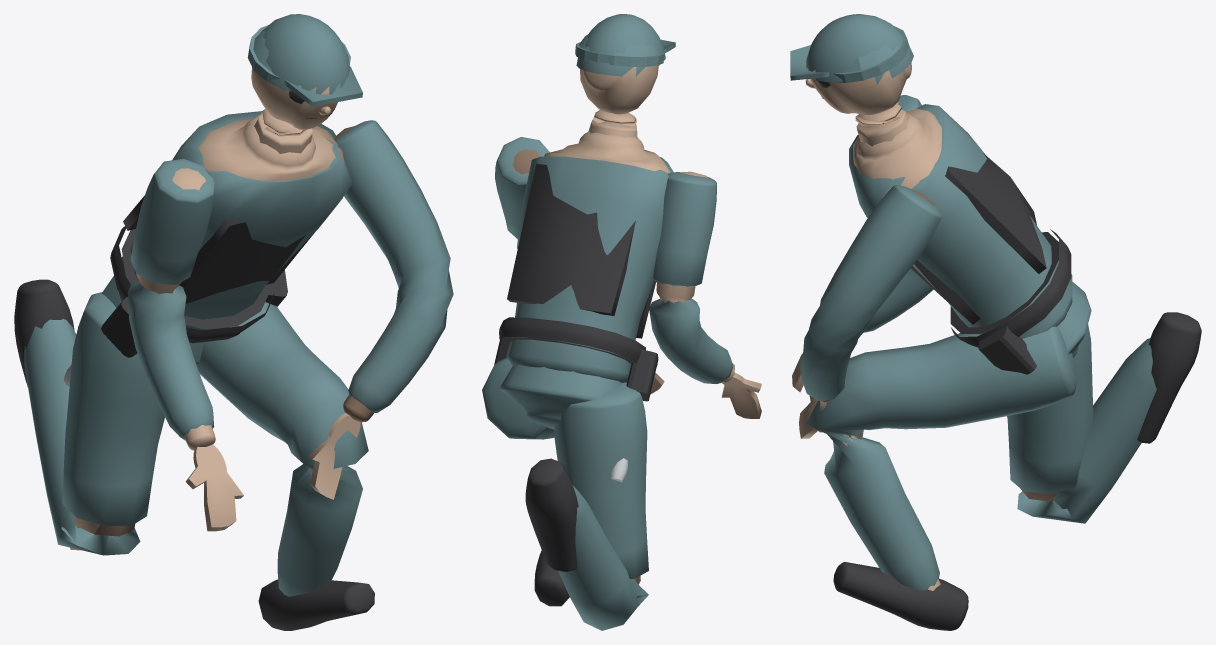
The model's file is tactical-shooter-hill-town-patrol-officer-planting-5ede95bc__27565.glb.
The picture shows the model from 3 angles, left to right: view 1: azimuth 30°, elevation 25°; view 2: azimuth 150°, elevation 25°; view 3: azimuth 270°, elevation 25°; orthographic projection. The views are drawn at different scales.
Parts seen in each view (by area): view 1: patrol-officer-planting; view 2: patrol-officer-planting; view 3: patrol-officer-planting.
Boxes of the visible parts, <box> form: patrol-officer-planting: <box>14,14,453,630</box>; patrol-officer-planting: <box>482,14,761,630</box>; patrol-officer-planting: <box>790,14,1201,630</box>.
Bounding box in the file's own units: 0.5927 × 1.33 × 0.8305.
